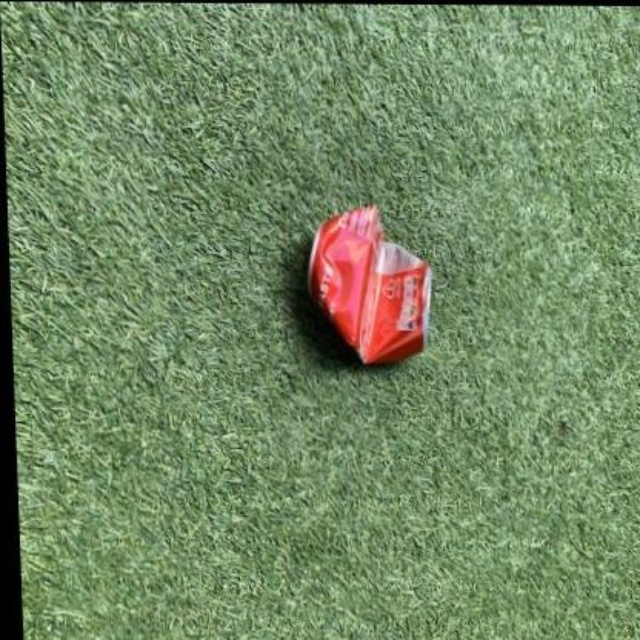trash: (309, 205, 429, 363)
